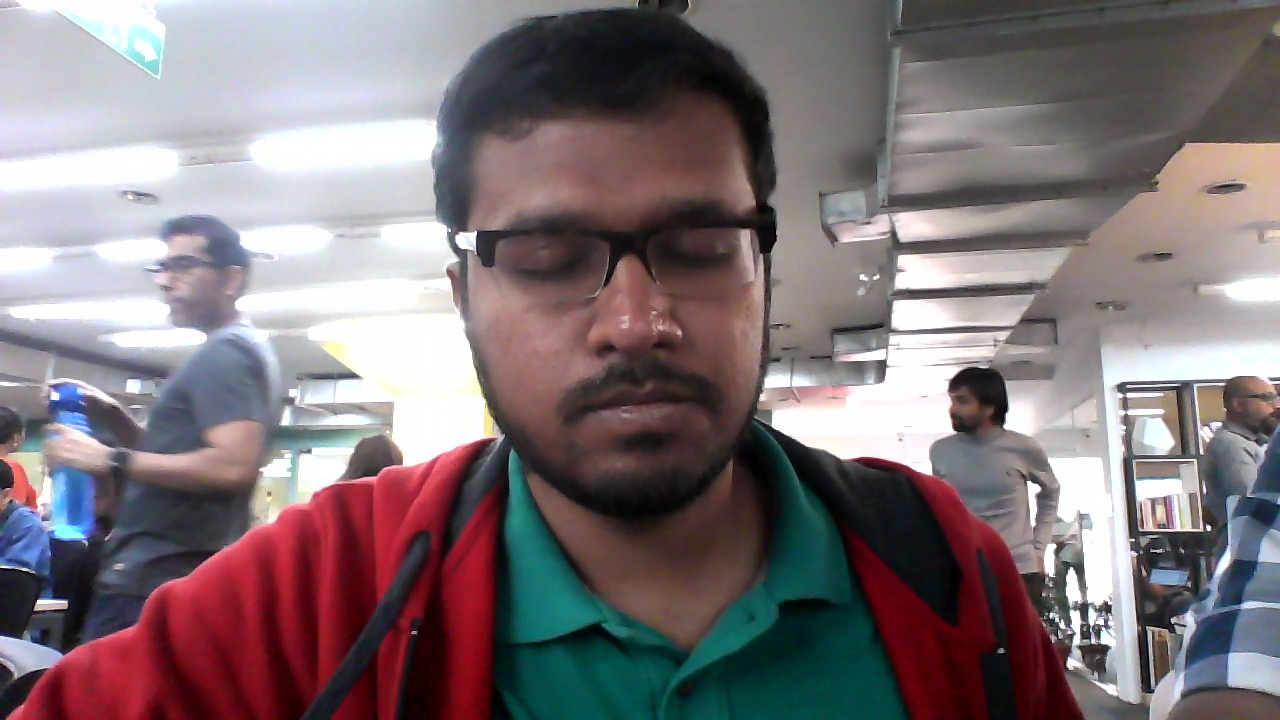closed: (436, 6, 791, 514)
